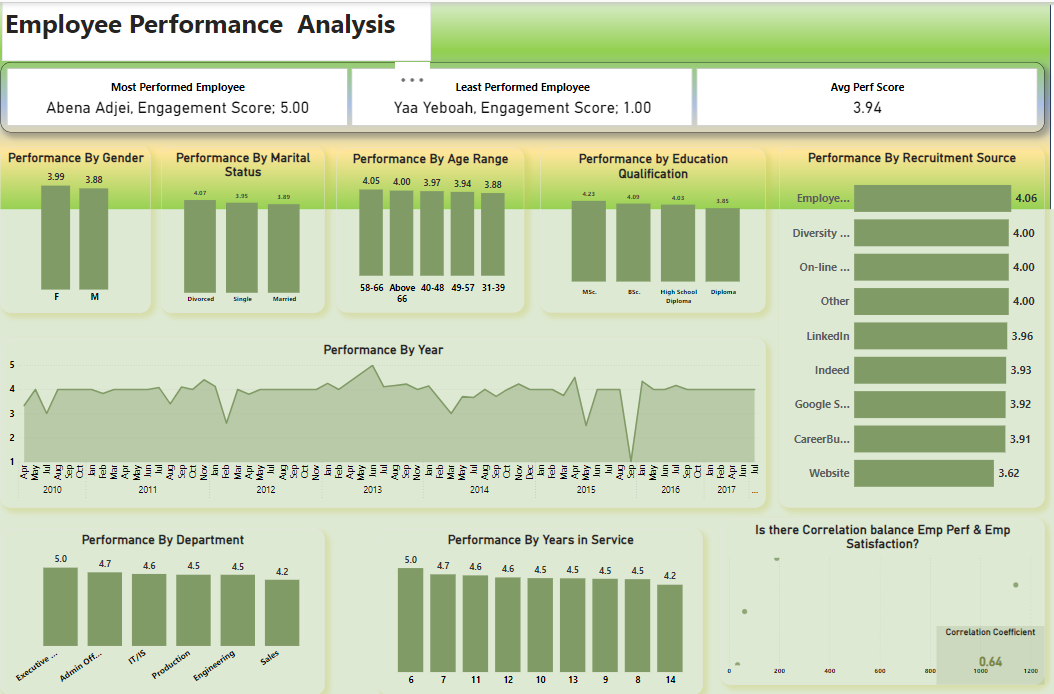

The page's visual inventory and layout, read from the dashboard file:
{"tool":"powerbi","page":{"name":"Performance Page","canvas":[2000,1300],"ordinal":3},"visuals":[{"type":"image","box":[0,0,2003.5,393.9],"z":0},{"type":"cardVisual","title":"Most Engaged Employee","fields":{"Data":["MeasureTable.Most Performed Employee Info","MeasureTable.Least Performed Employee Info","MeasureTable.Avg Perf Score"]},"box":[19.7,112.6,1958.4,132.3],"z":1000},{"type":"columnChart","title":"Performance By Gender","fields":{"Category":["HR Dataset.Gender"],"Y":["MeasureTable.Avg Perf Score"]},"box":[19.7,270.1,281.4,312.3],"z":2000},{"type":"barChart","title":"Performance By Recruitment Source","fields":{"Category":["HR Dataset.RecruitmentSource"],"Y":["MeasureTable.Avg Perf Score"]},"box":[1480.1,270.1,498.1,678.1],"z":3000},{"type":"textbox","box":[22.5,0,804.8,109.7],"z":4000},{"type":"areaChart","title":"Performance By Year","fields":{"Category":["DateTable.Year","DateTable.Month Name"],"Y":["MeasureTable.Avg Perf Score"]},"box":[19.7,630.3,1435.1,318],"z":5000},{"type":"columnChart","title":"Performance By Marital Status","fields":{"Category":["HR Dataset.MaritalStatus"],"Y":["MeasureTable.Avg Perf Score"]},"box":[320.8,270.1,306.7,312.3],"z":6000},{"type":"columnChart","title":"Performance By Age Range","fields":{"Y":["MeasureTable.Avg Perf Score"],"Category":["HR Dataset.Age Range"]},"box":[650,272.9,351.7,309.5],"z":7000},{"type":"columnChart","title":"Performance by Education Qualification","fields":{"Y":["MeasureTable.Avg Perf Score"],"Category":["HR Dataset.Education Qualification"]},"box":[1032.7,272.9,422.1,309.5],"z":8000},{"type":"columnChart","title":"Performance By Department","fields":{"Y":["MeasureTable.Avg Eng Score"],"Category":["HR Dataset.Department"]},"box":[19.7,987.7,607.8,312.3],"z":9000},{"type":"columnChart","title":"Performance By Years in Service","fields":{"Y":["MeasureTable.Avg Eng Score"],"Category":["HR Dataset.Years in Service"]},"box":[728.8,987.7,607.8,312.3],"z":10000},{"type":"scatterChart","title":"Is there Correlation balance  Emp Perf & Emp Satisfaction?","fields":{"X":["Sum(HR Dataset.EngagementSurvey)"],"Y":["HR Dataset.PerformanceNumber"]},"box":[1370.3,968,607.8,312.3],"z":11000},{"type":"card","title":"Correlation Coefficient","fields":{"Values":["MeasureTable.2nd Correlation  Coefficient"]},"box":[1775.5,1170.6,202.6,109.7],"z":12000}]}

Visuals, with their boxes in screenshot pixels (x1, y1, x2, y2), scaled from the page's 2000x1300 canvas onto the 1054x694 screenshot:
image: <bbox>0, 0, 1053, 210</bbox>
"Most Engaged Employee" cardVisual: <bbox>10, 60, 1042, 131</bbox>
"Performance By Gender" columnChart: <bbox>10, 144, 159, 311</bbox>
"Performance By Recruitment Source" barChart: <bbox>780, 144, 1043, 506</bbox>
textbox: <bbox>12, 0, 436, 59</bbox>
"Performance By Year" areaChart: <bbox>10, 336, 767, 506</bbox>
"Performance By Marital Status" columnChart: <bbox>169, 144, 331, 311</bbox>
"Performance By Age Range" columnChart: <bbox>343, 146, 528, 311</bbox>
"Performance by Education Qualification" columnChart: <bbox>544, 146, 767, 311</bbox>
"Performance By Department" columnChart: <bbox>10, 527, 331, 693</bbox>
"Performance By Years in Service" columnChart: <bbox>384, 527, 704, 693</bbox>
"Is there Correlation balance  Emp Perf & Emp Satisfaction?" scatterChart: <bbox>722, 517, 1042, 683</bbox>
"Correlation Coefficient" card: <bbox>936, 625, 1042, 683</bbox>
